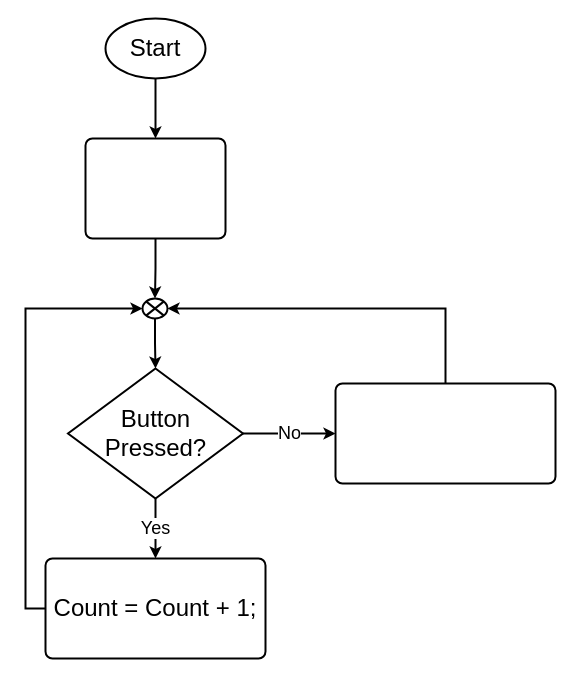
This 573x676 diagram has some shape labels left out. Each missing label, with the box of its shape:
Count = 0;: (84, 137, 226, 239)
Count = Count - 1;: (334, 382, 556, 484)
